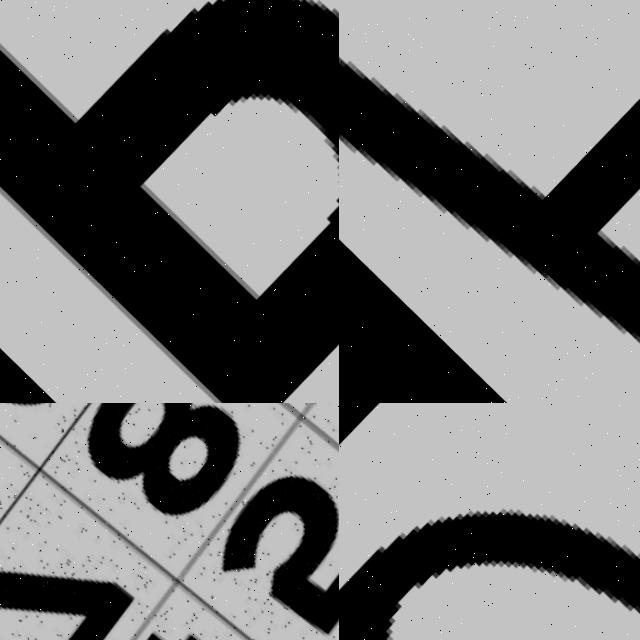4: (47, 585, 293, 640)
5: (184, 427, 339, 640)
7: (0, 486, 150, 640)
8: (48, 403, 277, 552)
H: (339, 0, 640, 403)
P: (0, 0, 339, 403)
U: (339, 403, 640, 640)
